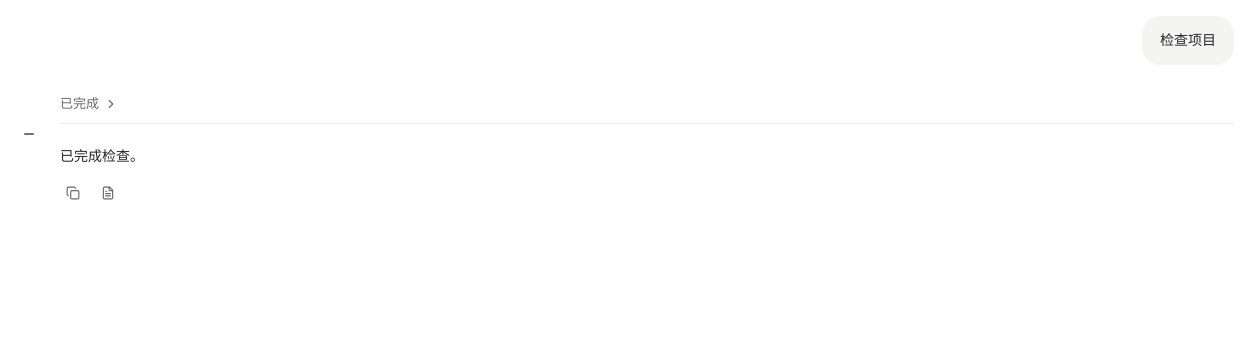
timeline activity folding › labels explicit thinking and intermediate replies while keeping final replies separate
Check: the text "已完成检查。" is shown, box left=60, top=145, right=144, bottom=164
Click the heading named "执行详情".
click(80, 102)  # box left=60, top=88, right=1234, bottom=123
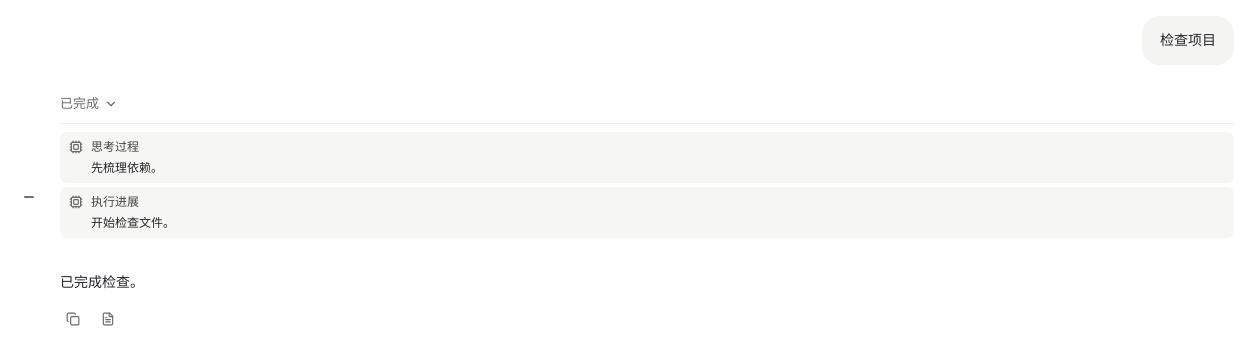
Check: the number of buttons named "复制回复（Markdown 原文）" is 1, box left=60, top=306, right=86, bottom=332
Check: the text "思考过程" is shown, box left=91, top=137, right=139, bottom=155
Check: the text "执行进展" is shown, box left=91, top=192, right=139, bottom=210
